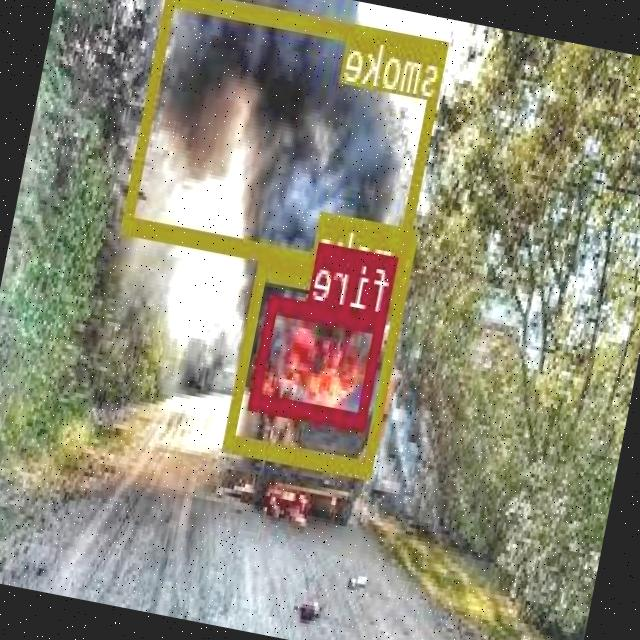fire: (250, 292, 389, 429)
smoke: (124, 0, 450, 285), (227, 260, 409, 474)
